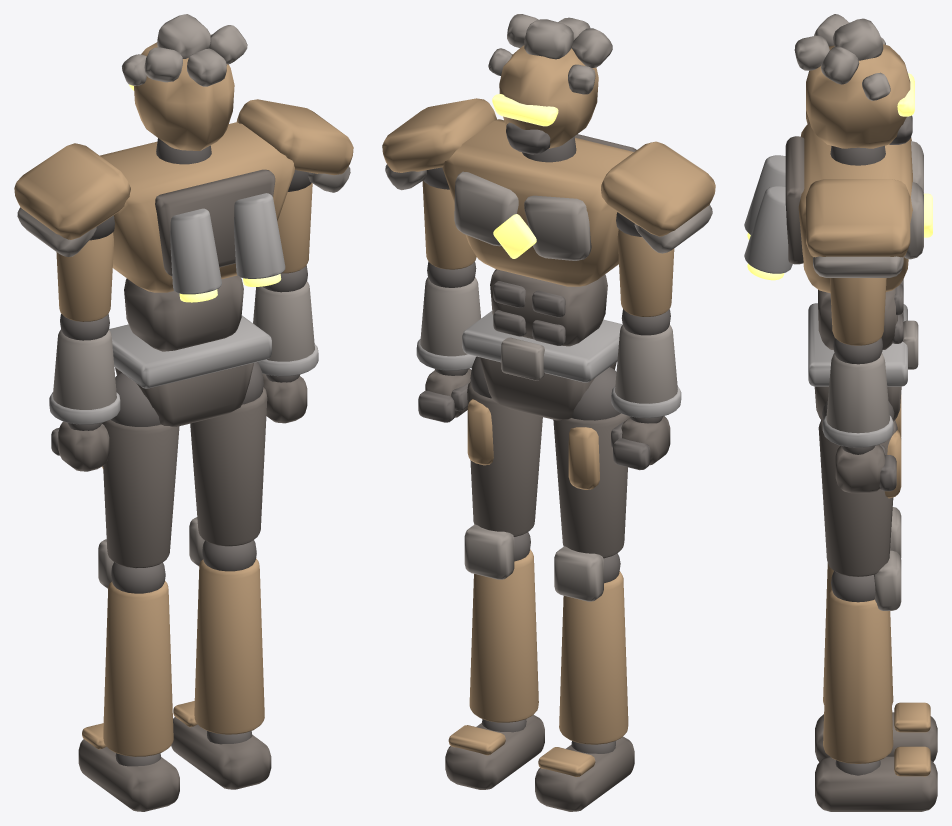
Rendered from stone.glb.
3 views of the same model, side by side, from view 1: azimuth 30°, elevation 25°; view 2: azimuth 150°, elevation 25°; view 3: azimuth 270°, elevation 25° (orthographic).
Visible parts, largest first — view 1: chest, upper_arm_l, shin_l, shin_r, head, thigh_l, hips, thigh_r, upper_arm_r, lower_arm_l, abdomen, lower_arm_r (+4 smaller); view 2: chest, shin_r, shin_l, upper_arm_l, head, thigh_l, hips, thigh_r, upper_arm_r, abdomen, lower_arm_l, lower_arm_r (+4 smaller); view 3: chest, upper_arm_r, shin_r, head, thigh_r, foot_r, lower_arm_r, hips, hand_r, foot_l, abdomen, shin_l.
Part boxes in pixels (x1=…): chest: x1=100, y1=122, x2=294, y2=302; upper_arm_l: x1=14, y1=143, x2=130, y2=321; shin_l: x1=98, y1=539, x2=173, y2=756; shin_r: x1=189, y1=517, x2=264, y2=734; head: x1=122, y1=14, x2=247, y2=150; thigh_l: x1=102, y1=373, x2=179, y2=568; hips: x1=109, y1=315, x2=271, y2=426; thigh_r: x1=190, y1=362, x2=267, y2=546; upper_arm_r: x1=236, y1=99, x2=353, y2=273; lower_arm_l: x1=49, y1=313, x2=120, y2=424; abdomen: x1=124, y1=275, x2=243, y2=351; lower_arm_r: x1=253, y1=265, x2=318, y2=376; chest: x1=442, y1=119, x2=636, y2=286; shin_r: x1=464, y1=524, x2=538, y2=722; shin_l: x1=554, y1=546, x2=628, y2=744; upper_arm_l: x1=601, y1=141, x2=715, y2=316; head: x1=488, y1=14, x2=612, y2=154; thigh_l: x1=553, y1=367, x2=629, y2=558; hips: x1=462, y1=311, x2=622, y2=420; thigh_r: x1=467, y1=356, x2=542, y2=536; upper_arm_r: x1=382, y1=98, x2=496, y2=269; abdomen: x1=490, y1=269, x2=607, y2=346; lower_arm_l: x1=611, y1=309, x2=681, y2=418; lower_arm_r: x1=416, y1=261, x2=480, y2=370; chest: x1=744, y1=122, x2=932, y2=293; upper_arm_r: x1=806, y1=179, x2=910, y2=345; shin_r: x1=823, y1=550, x2=901, y2=763; head: x1=794, y1=14, x2=914, y2=148; thigh_r: x1=818, y1=401, x2=901, y2=576; foot_r: x1=815, y1=746, x2=937, y2=811; lower_arm_r: x1=822, y1=338, x2=893, y2=447; hips: x1=808, y1=303, x2=918, y2=420; hand_r: x1=835, y1=444, x2=896, y2=493; foot_l: x1=815, y1=702, x2=937, y2=761; abdomen: x1=818, y1=279, x2=903, y2=350; shin_l: x1=823, y1=507, x2=901, y2=704.
Bounding box in the file's own units: 0.758 × 1.85 × 0.4258.
